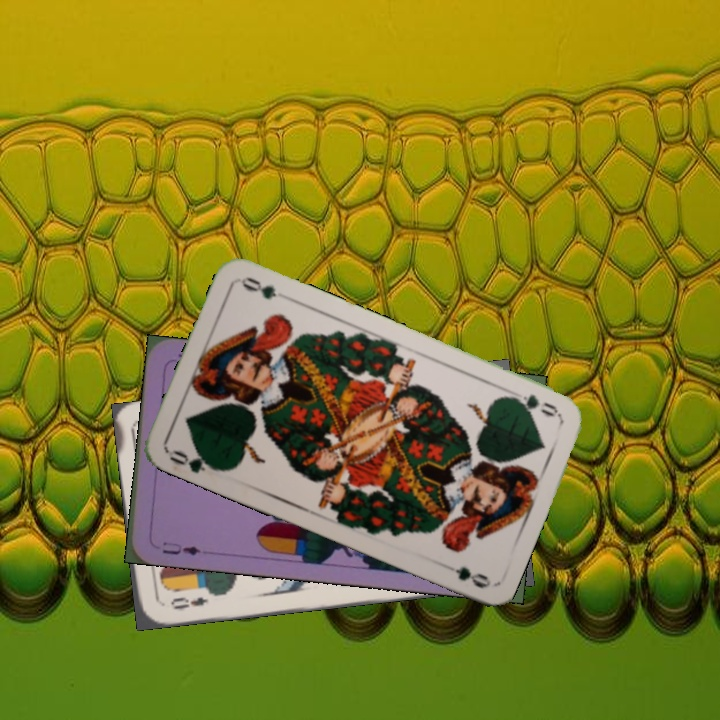EO: (167, 593, 211, 612)
EU: (158, 538, 203, 558)
GO: (165, 445, 223, 476), (505, 390, 562, 420)
